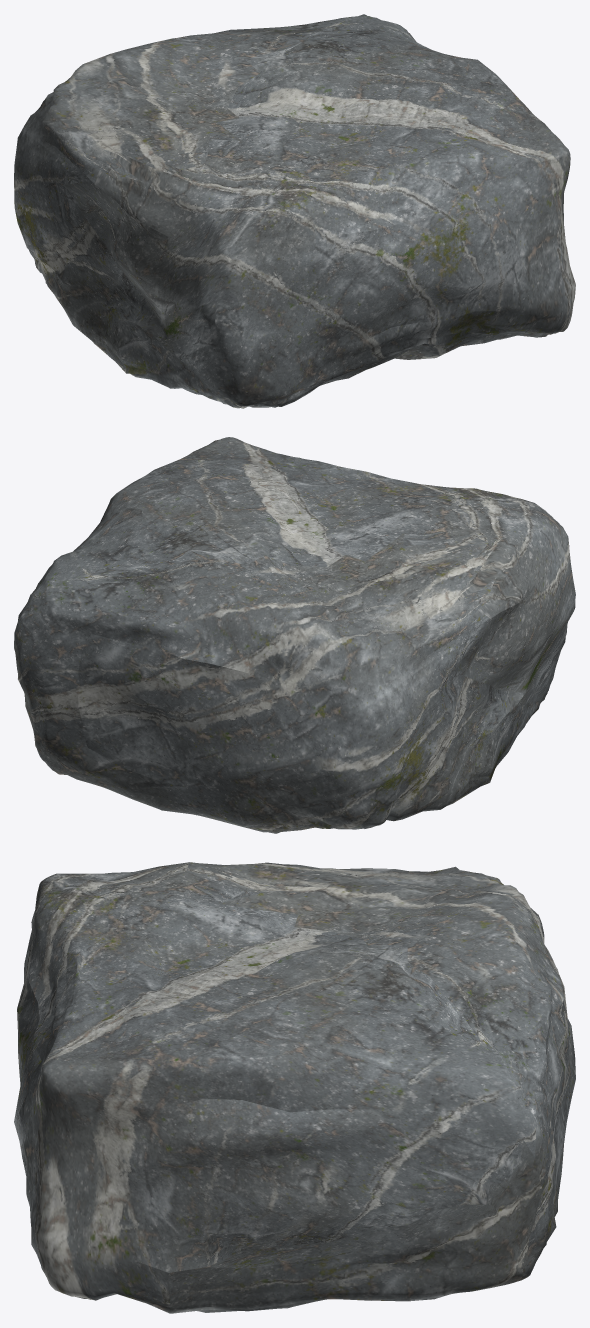
Rendered from SM_StoneBrick_A_01.fbx.
The picture shows the model from 3 angles, top to bottom: view 1: azimuth 30°, elevation 25°; view 2: azimuth 150°, elevation 25°; view 3: azimuth 270°, elevation 25°; orthographic projection. The views are drawn at different scales.
Visible parts, largest first — view 1: SM_StoneBrick_A_01_LOD0; view 2: SM_StoneBrick_A_01_LOD0; view 3: SM_StoneBrick_A_01_LOD0.
Boxes of the visible parts, x1,y1,x2,y2 form: SM_StoneBrick_A_01_LOD0: (14, 14, 575, 408); SM_StoneBrick_A_01_LOD0: (14, 437, 575, 833); SM_StoneBrick_A_01_LOD0: (14, 862, 575, 1313).
Bounding box in the file's own units: 111 × 111 × 65.74.
